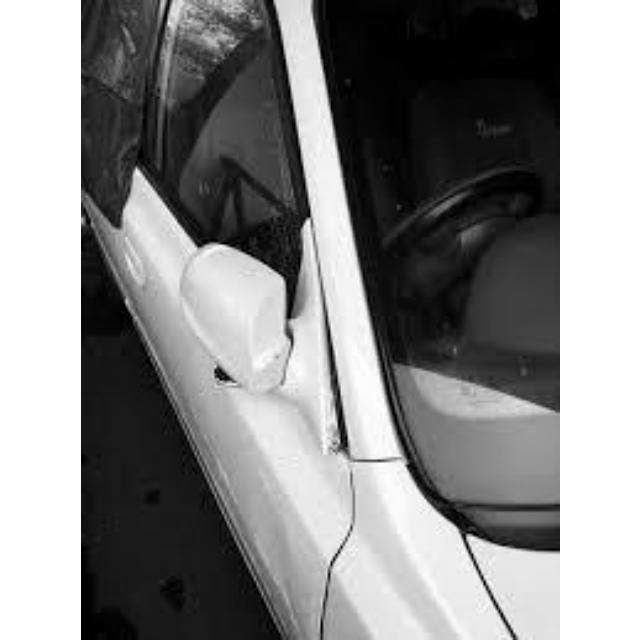Sidemirror-Damage: (133, 235, 308, 417)
